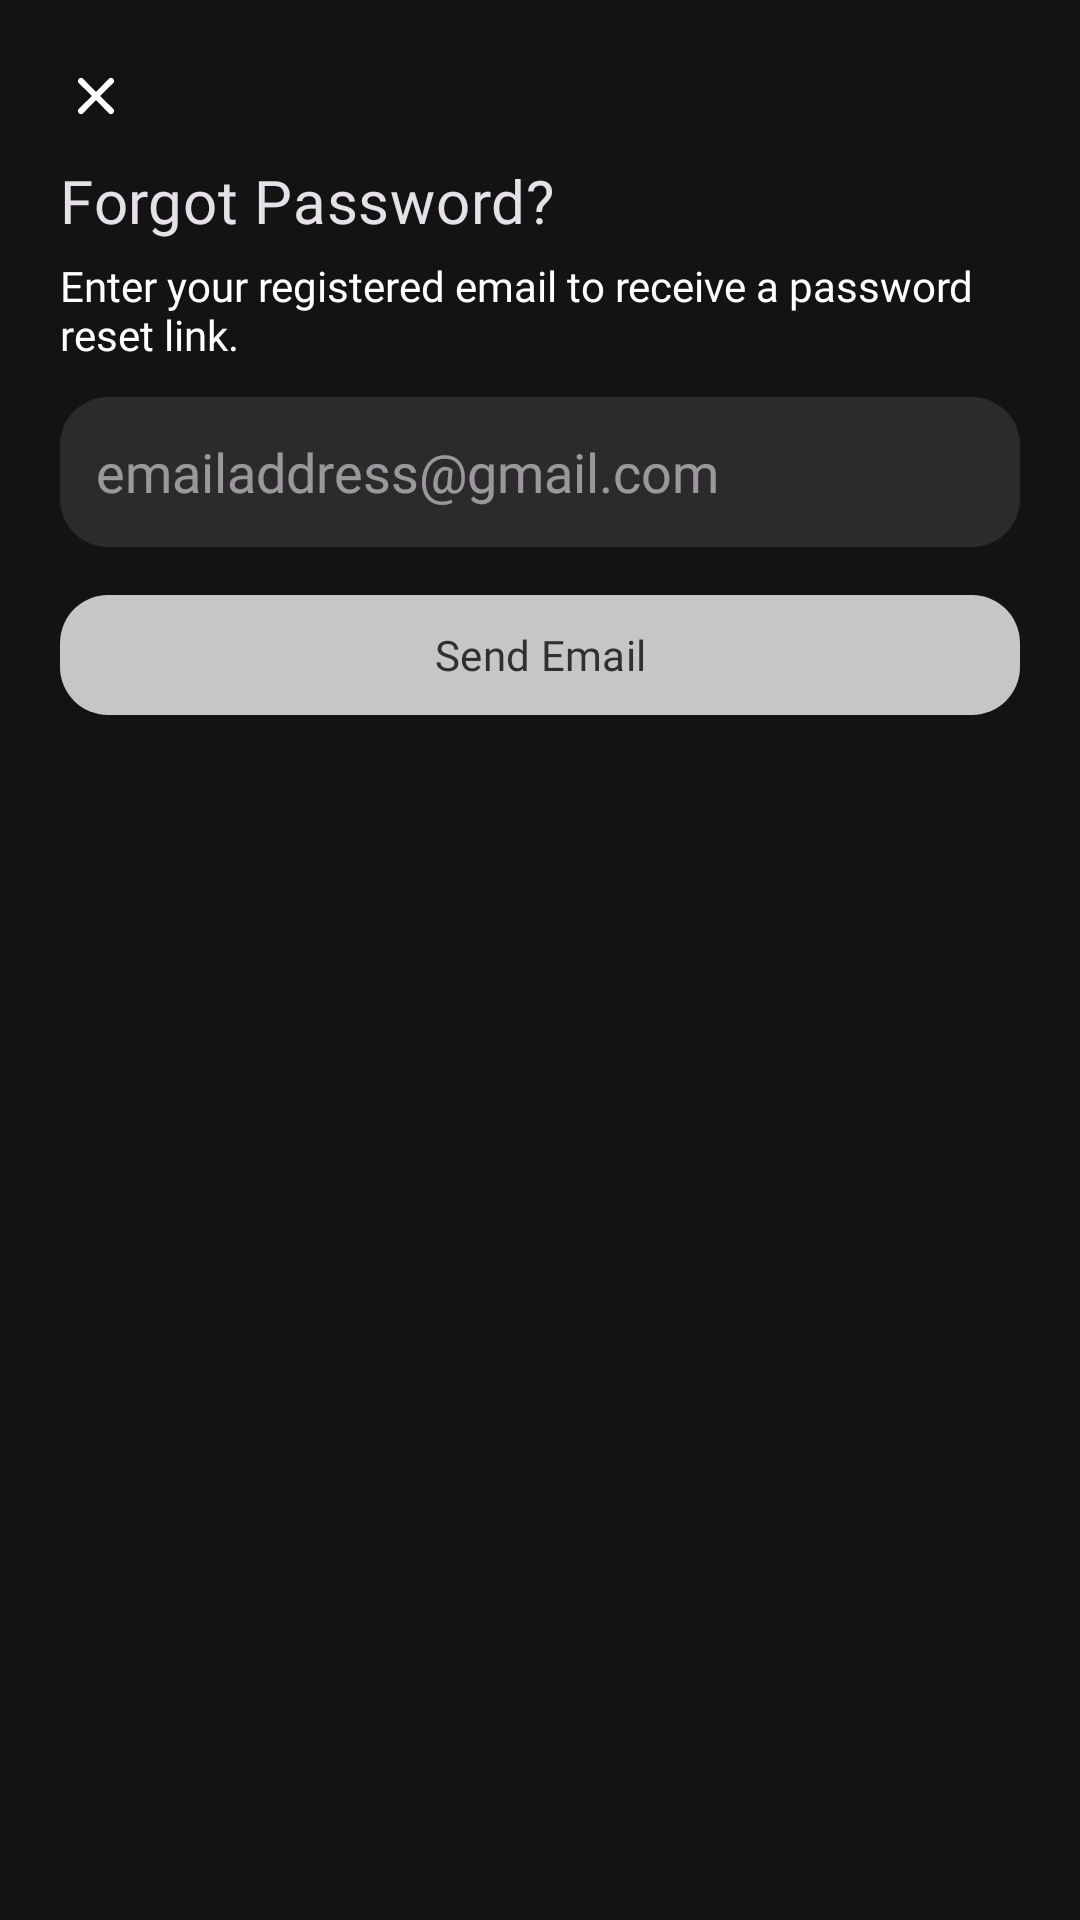

Named icons in this screenshot (1080 x 1920) and their centers, point (x, y):
close: point (96, 96)
